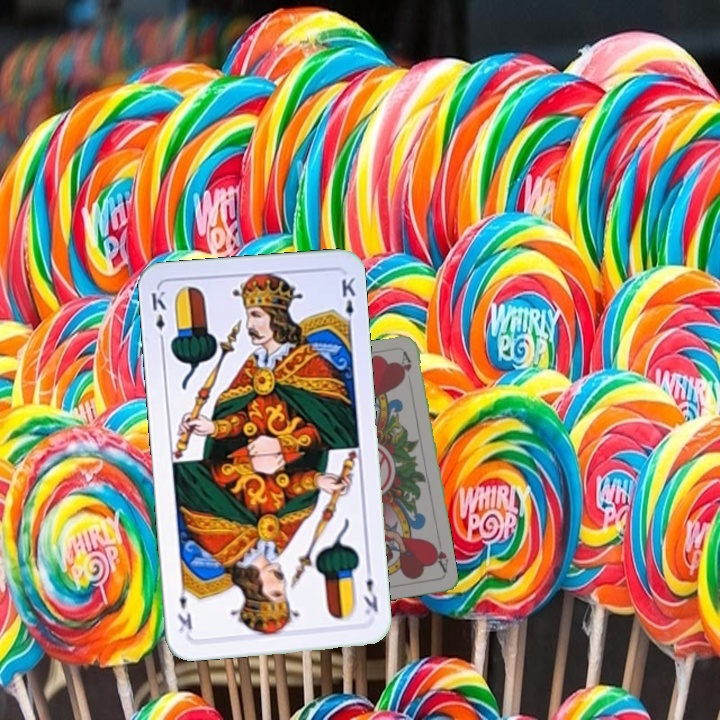EK: (147, 287, 168, 346), (359, 562, 381, 617)
HA: (428, 540, 451, 575)
